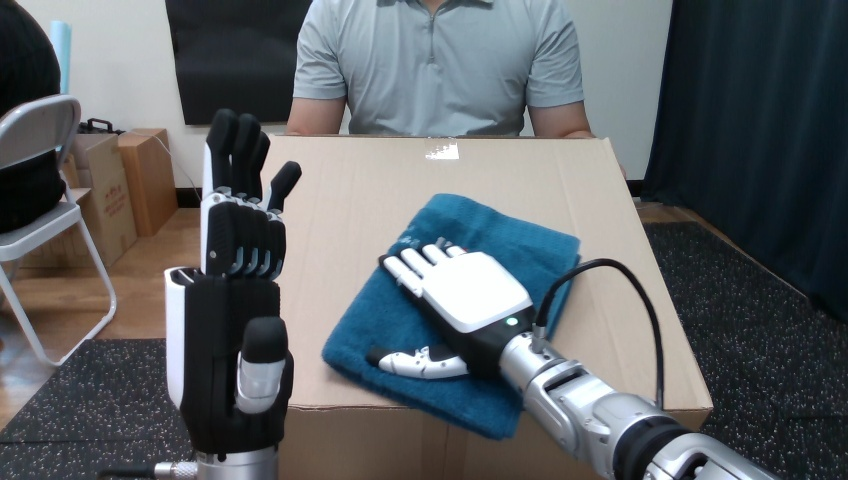left robot hand: (367, 239, 775, 479), (147, 109, 300, 479), (545, 265, 657, 402)
